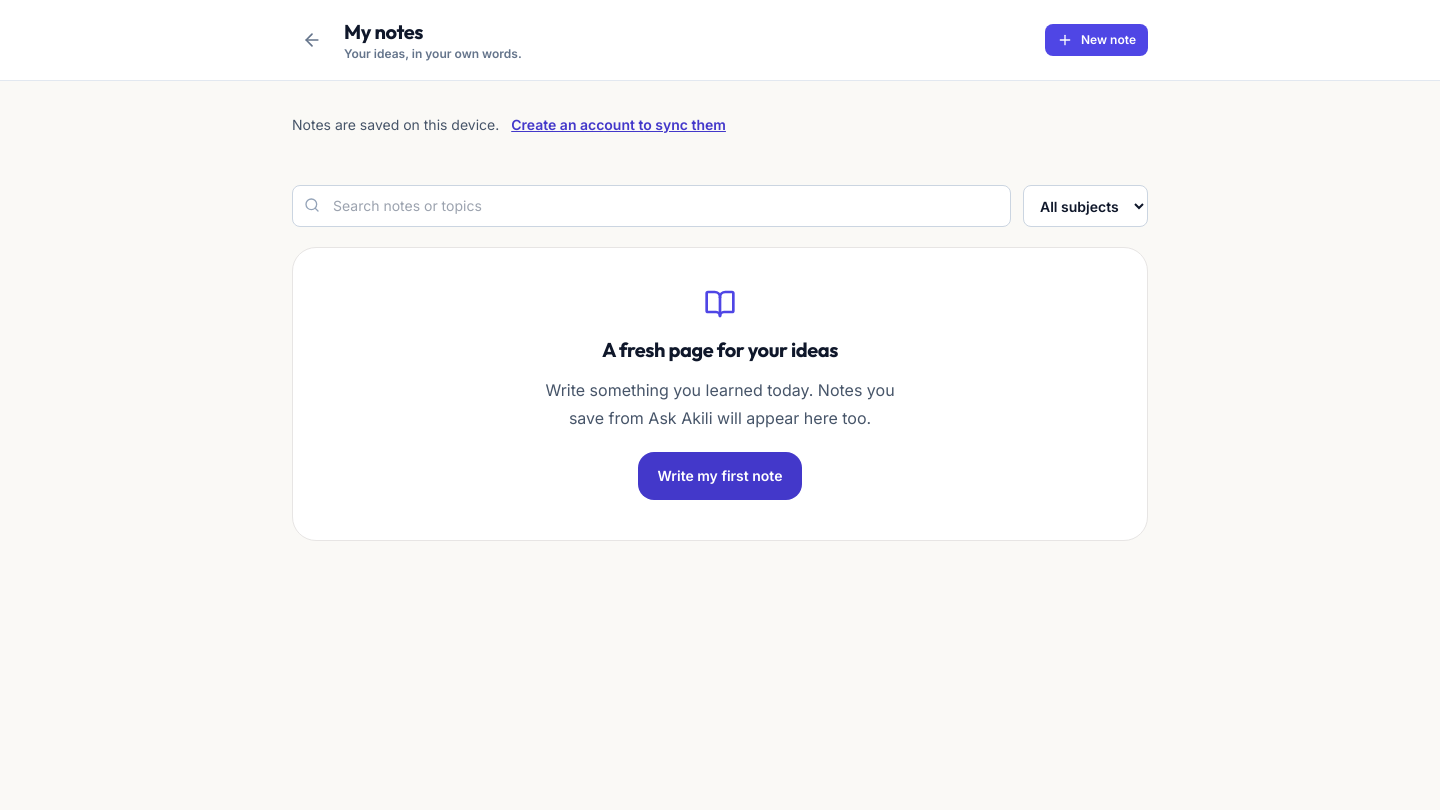
Test: Learner notebook › saves a note with labelled fields
Click the button "New note". click: click(1096, 40)
box: [1045, 24, 1148, 56]
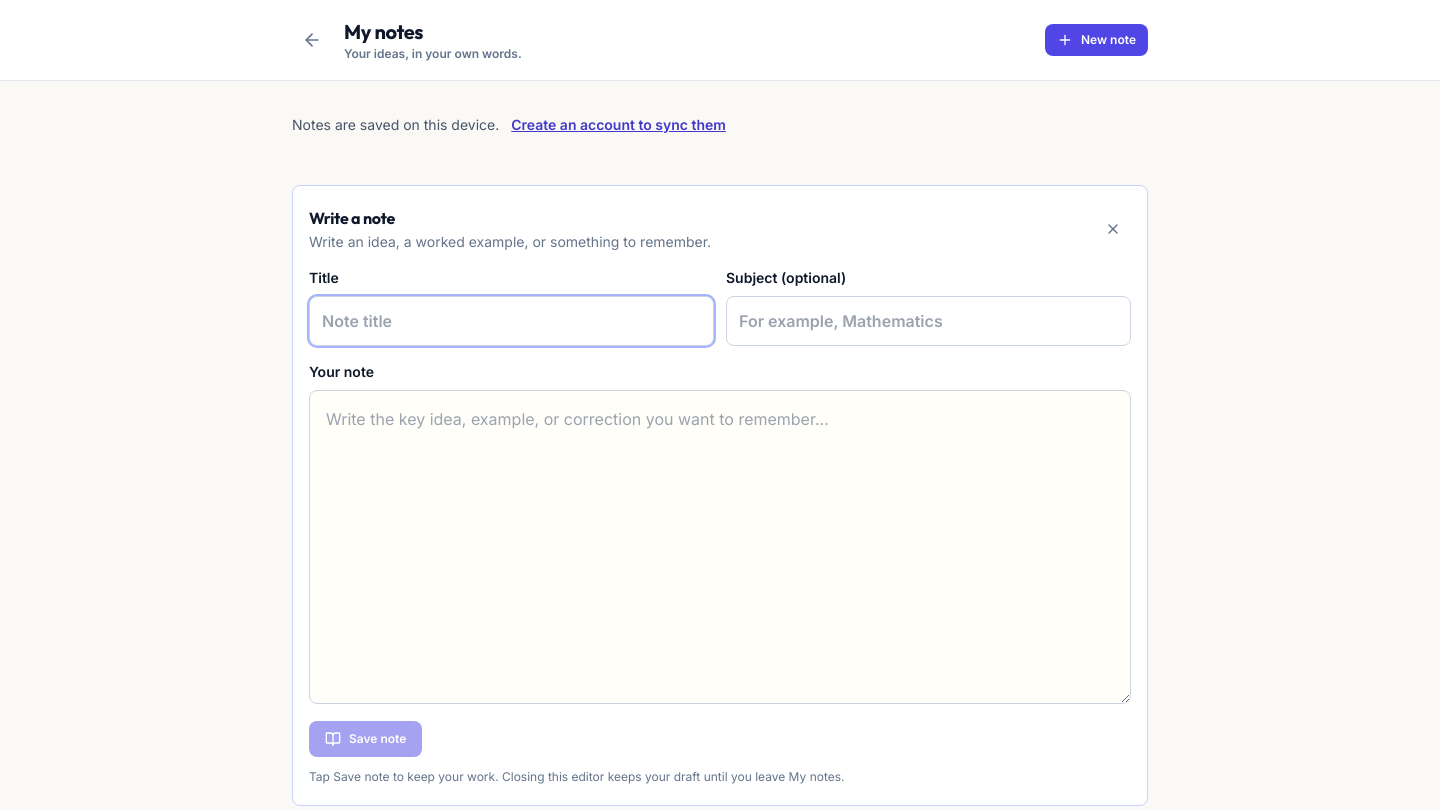
Type "Fractions" into the field labelled "Title". click: (512, 321)
box: [309, 296, 714, 346]
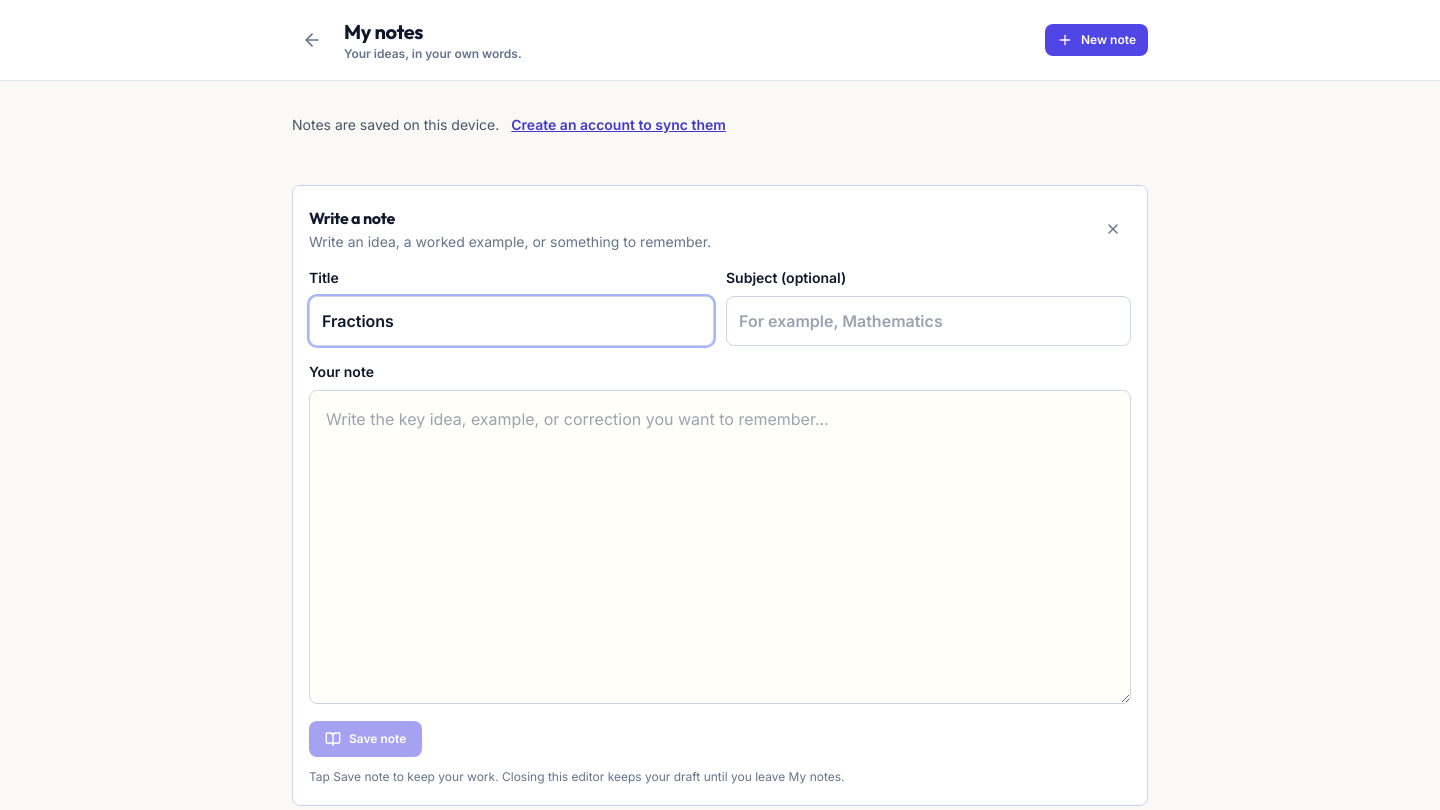
Replace the text in the text box labelled "Your note" with "One half is one of two equal parts.". click: (720, 547)
box: [309, 390, 1131, 704]
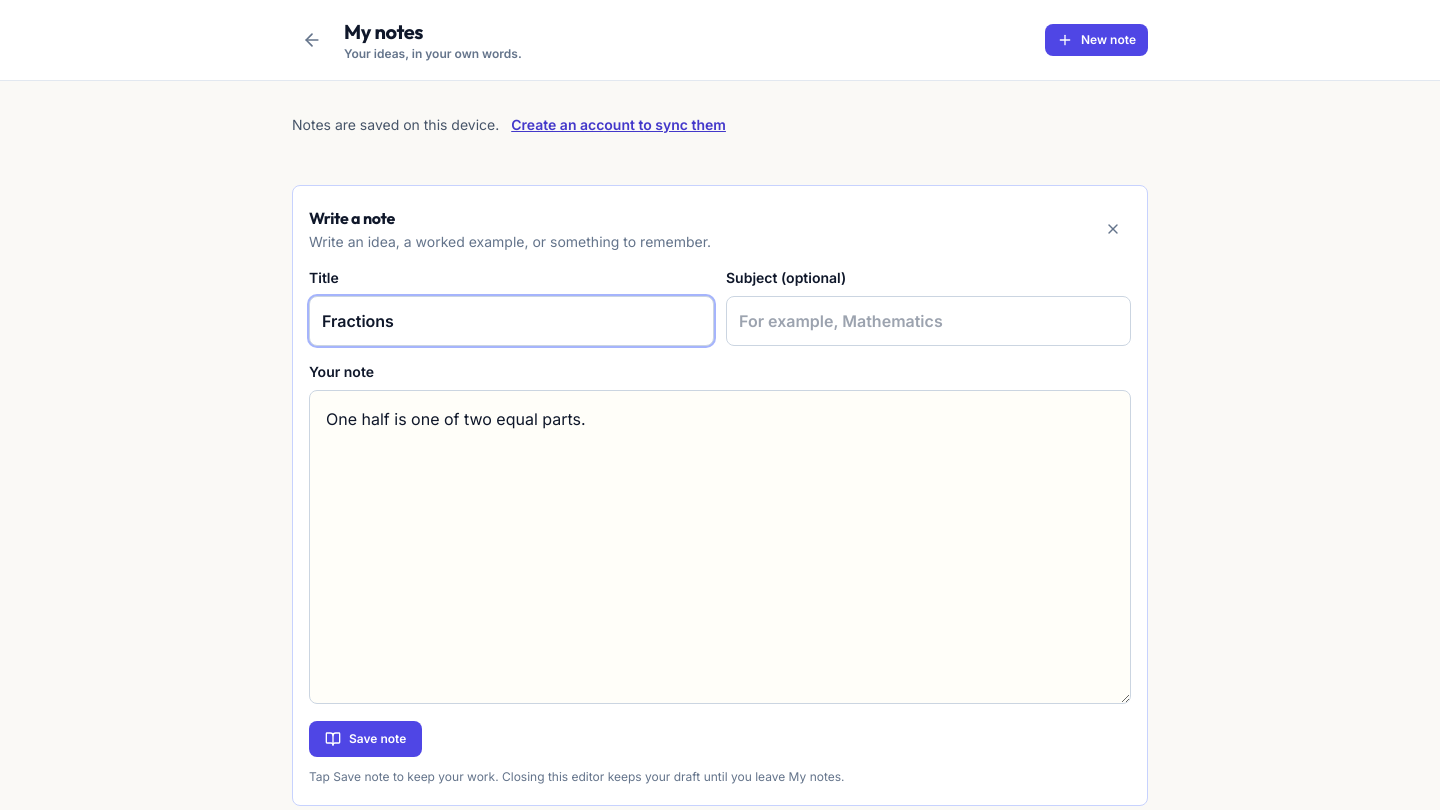
Click the button "Save note". click: click(366, 739)
box: [309, 721, 422, 757]
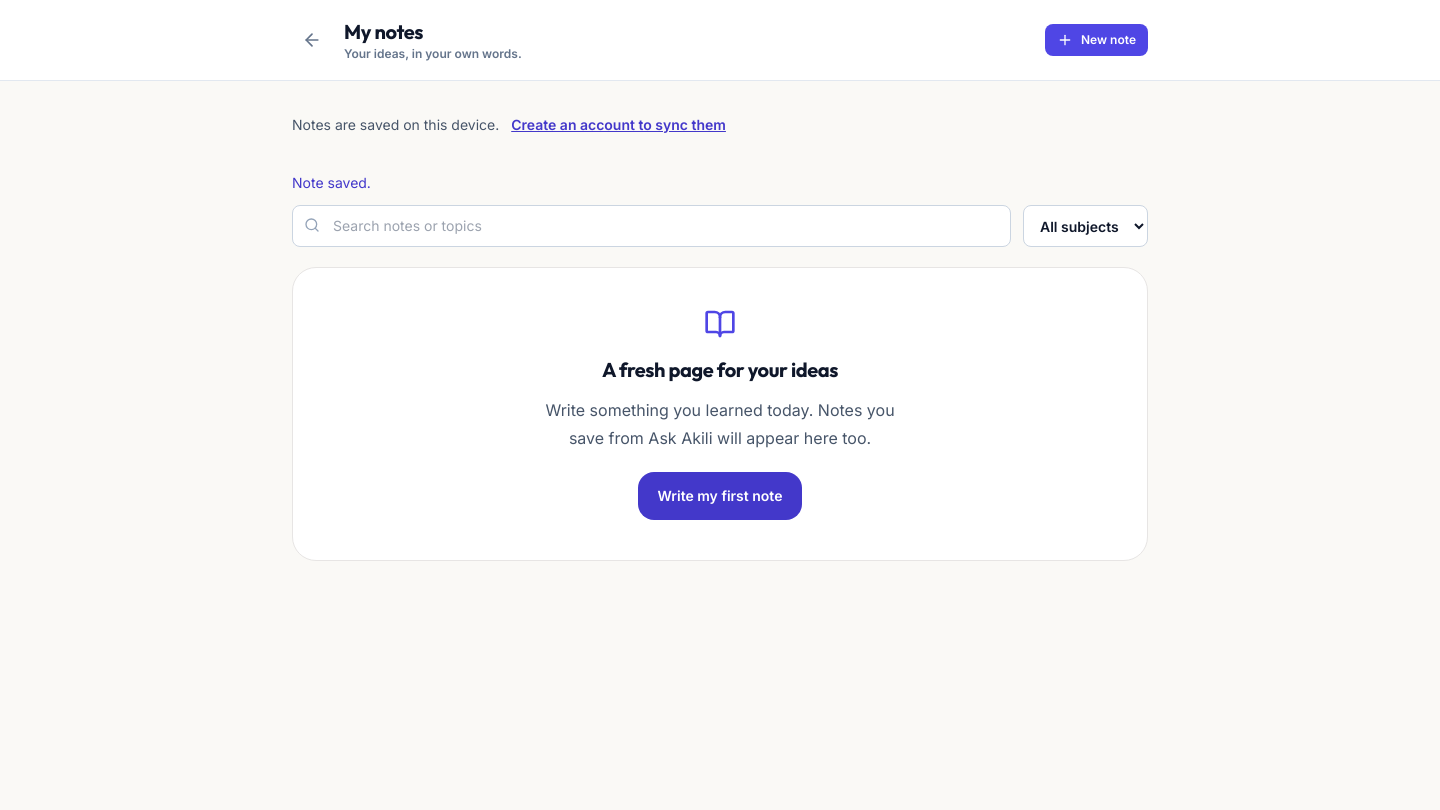
Expected: the message reads "Note saved.", [292, 174, 371, 191]
